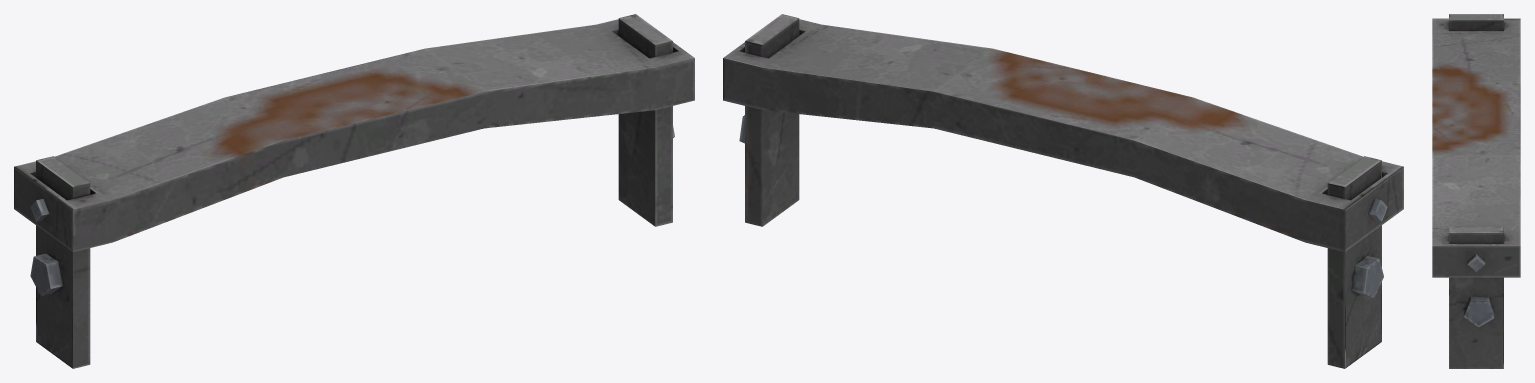
Rendered from conveyor_to_walled.glb.
3 renders of one model, left to right at view 1: azimuth 30°, elevation 25°; view 2: azimuth 150°, elevation 25°; view 3: azimuth 270°, elevation 25°, orthographic. The views are drawn at different scales.
Visible parts, largest first — view 1: conveyor_to_walled; view 2: conveyor_to_walled; view 3: conveyor_to_walled.
Boxes of the visible parts, box(x1,y1,x2,y2) form: conveyor_to_walled: box(14, 14, 694, 368); conveyor_to_walled: box(723, 14, 1403, 368); conveyor_to_walled: box(1432, 14, 1520, 368).
Size of the model in its own units: 1.06 by 0.2981 by 0.1697.
Materials: 1 (1 with a texture image).
